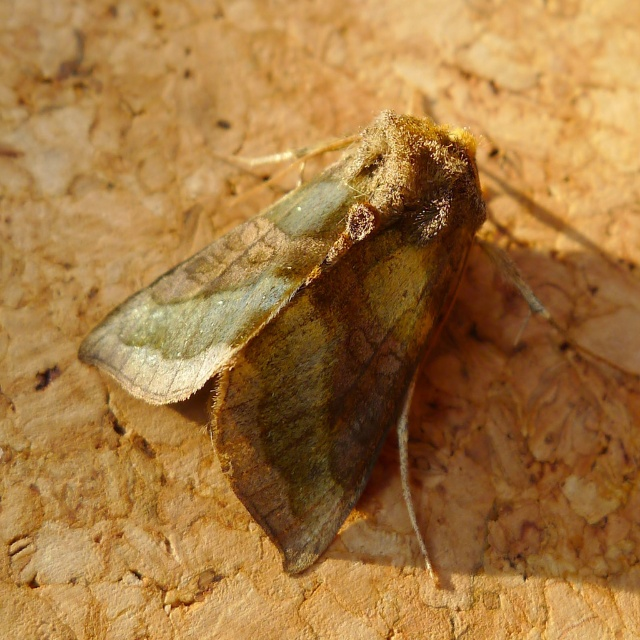Moths and butterflies: (75, 106, 626, 591)
